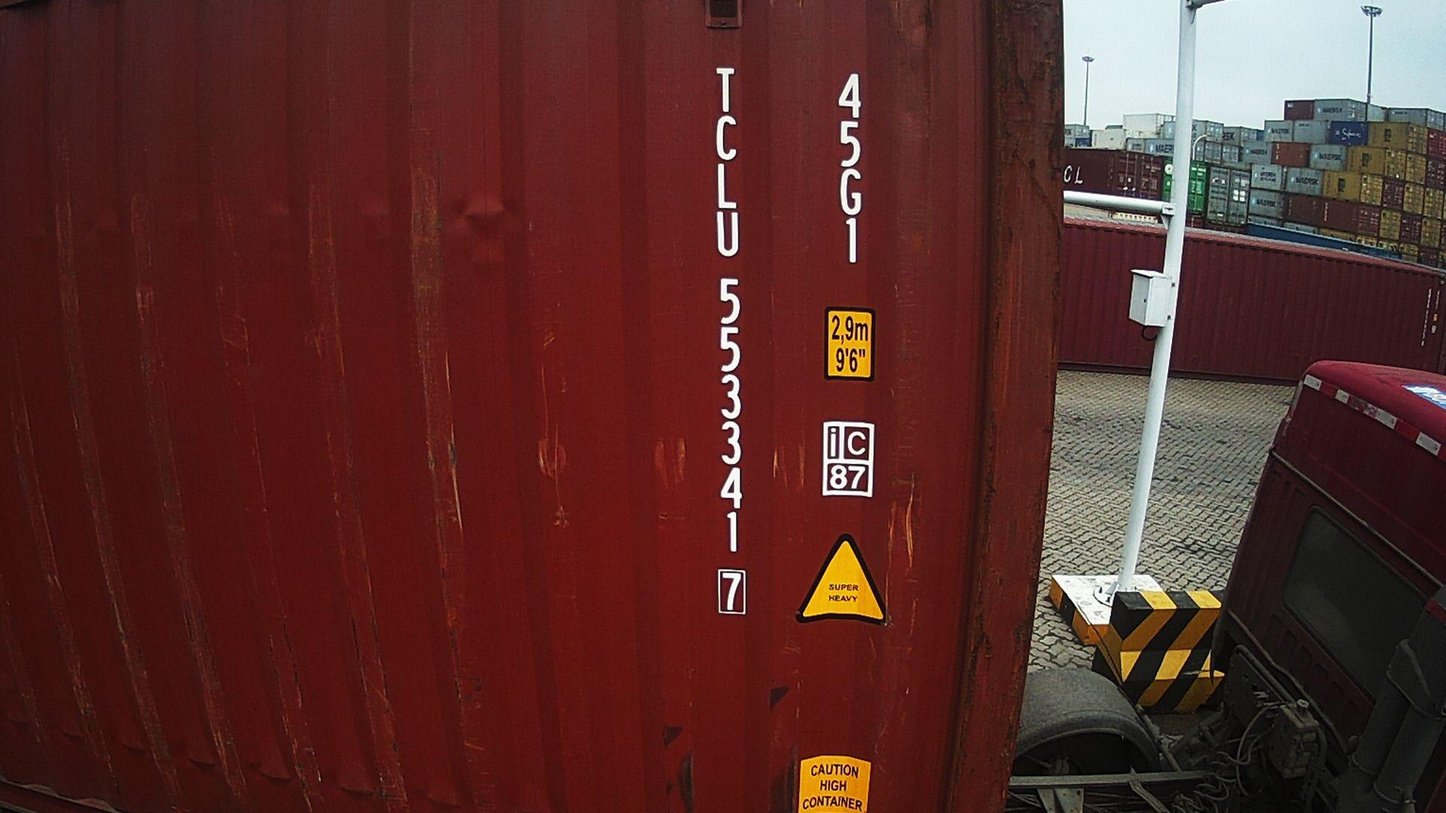container-numbers: (708, 57, 755, 620), (832, 67, 871, 268)
